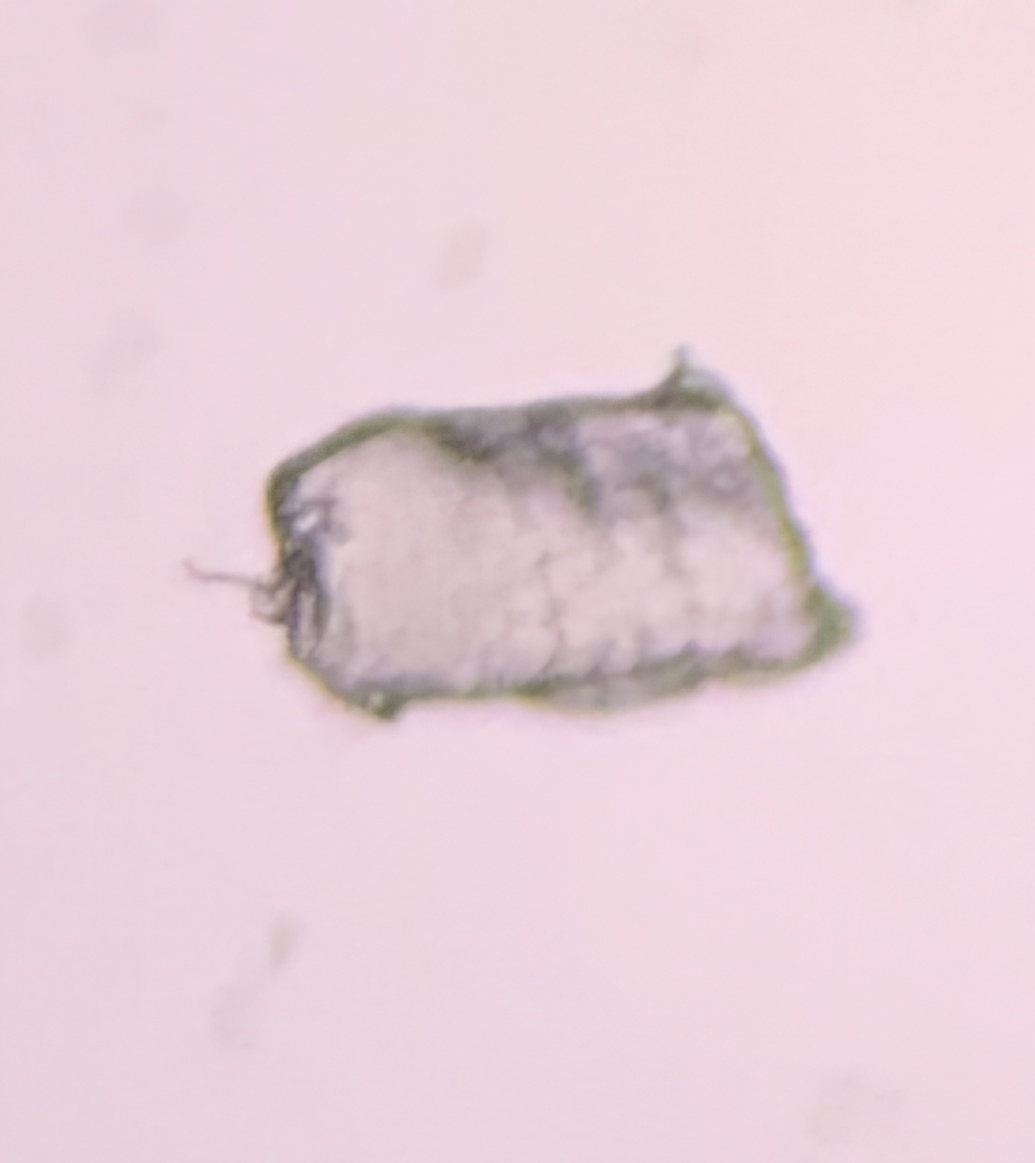microplastic: (187, 337, 877, 739)
